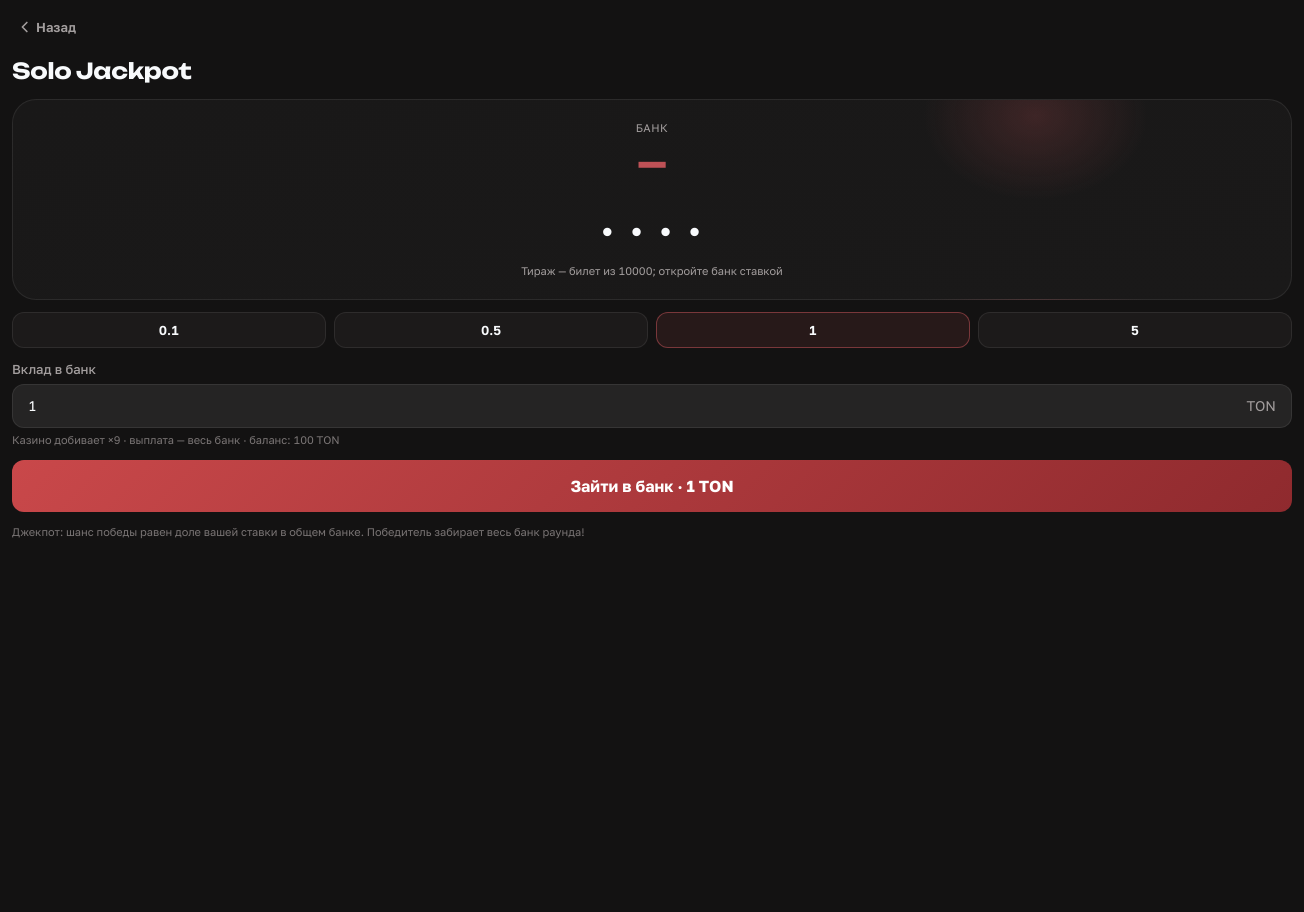
JackpotScreen (5.2: банк, доля, тираж) › докидывание: банк и доля растут (5.2 «шанс = доля ставки в банке»)
What coordinates should you click on to do the following:
click the button "Зайти в банк · 1 TON"
I would click on:
 (652, 486)
Its box is left=12, top=460, right=1292, bottom=512.
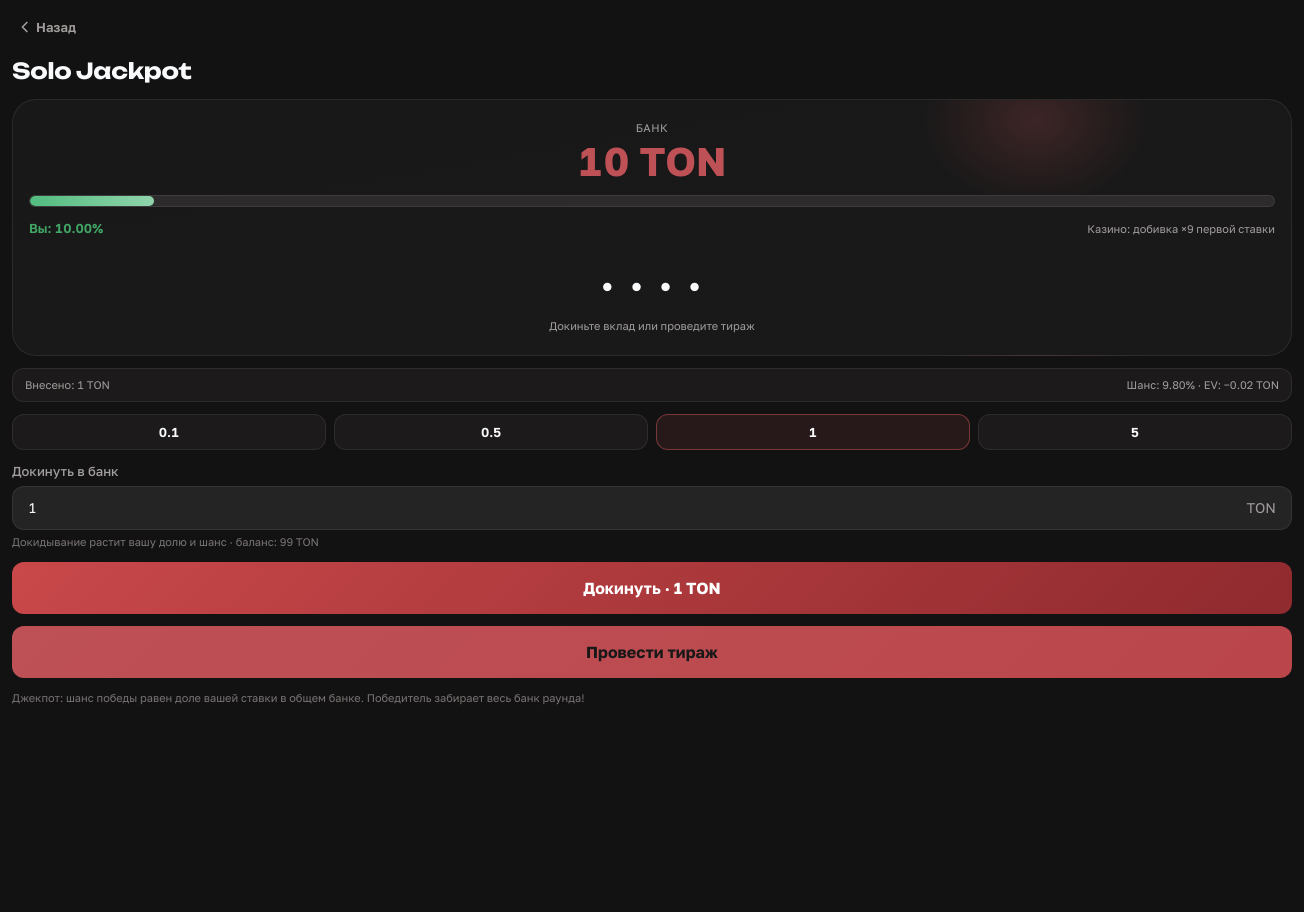
What coordinates should you click on to do the following:
click the button "Докинуть · 1 TON"
I would click on:
 (652, 588)
Its box is left=12, top=562, right=1292, bottom=614.
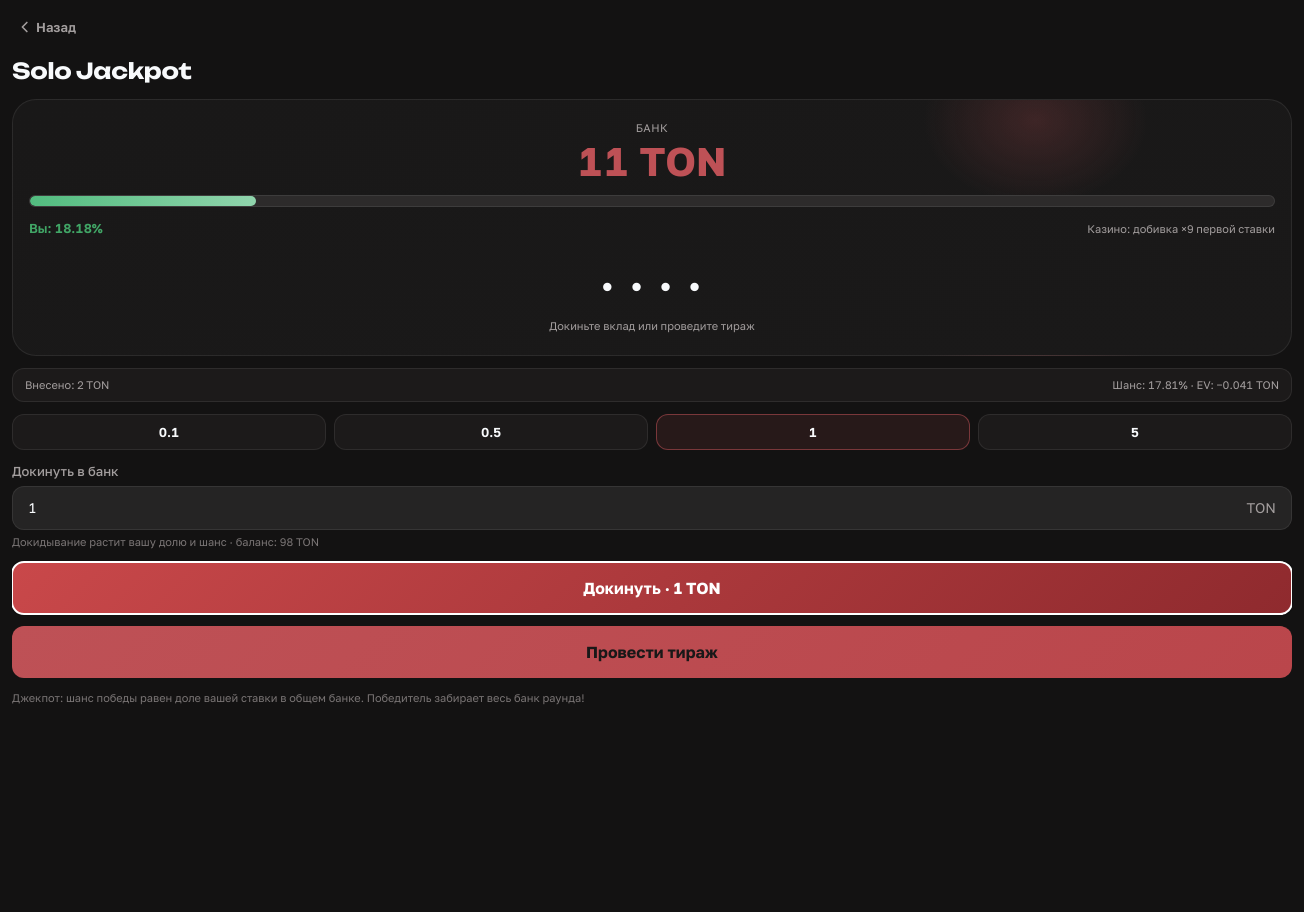
Expected: the text with test id "bank" reads "11 TON", left=578, top=136, right=726, bottom=184
Expected: the text "Вы: 18.18%" is shown, left=29, top=218, right=103, bottom=238
Expected: the text "Шанс: 17.81% · EV: −0.041 TON" is shown, left=1112, top=376, right=1279, bottom=393
